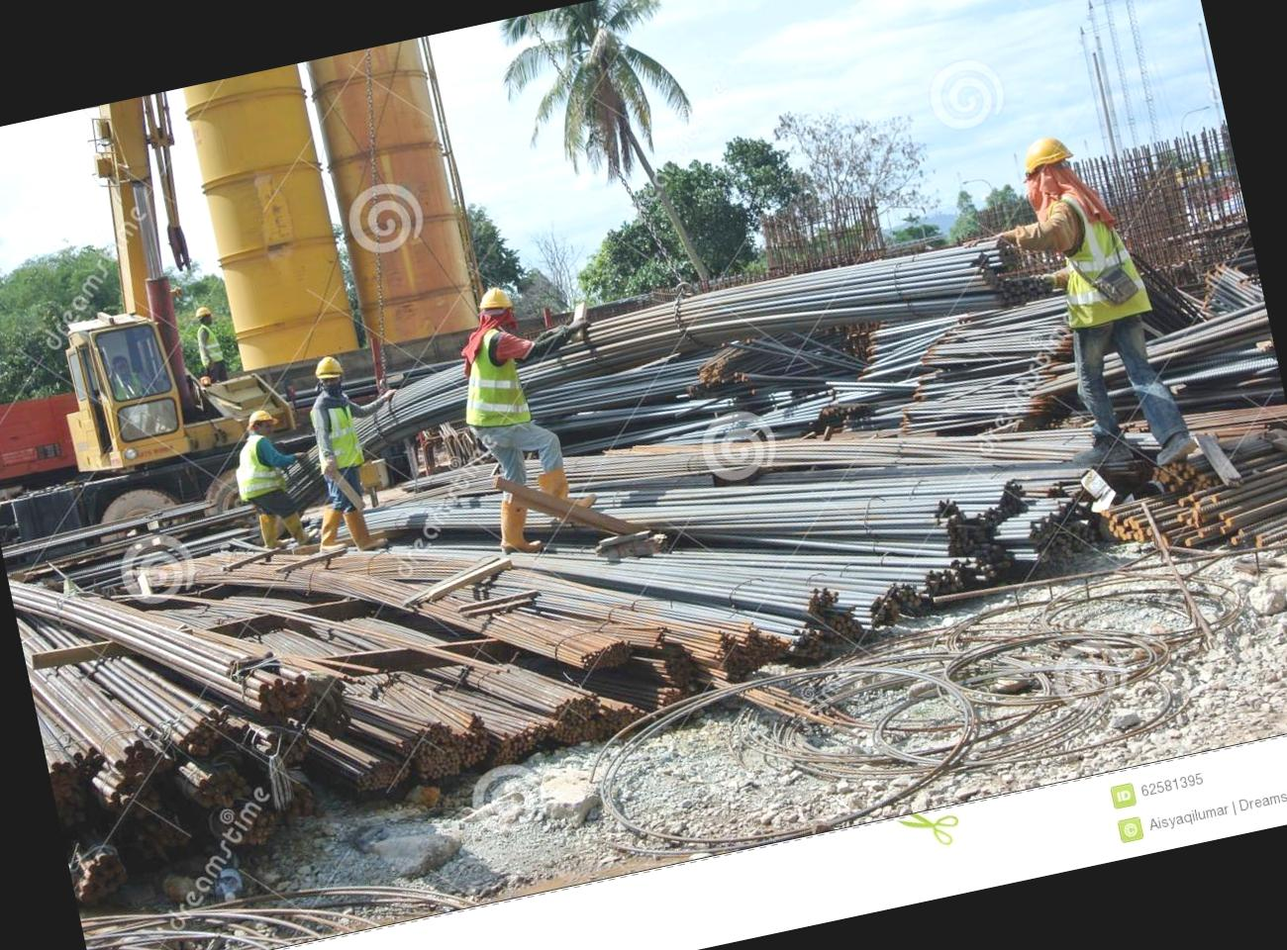person: (1006, 100, 1217, 526), (426, 276, 587, 564), (283, 347, 402, 552), (224, 387, 325, 558)
